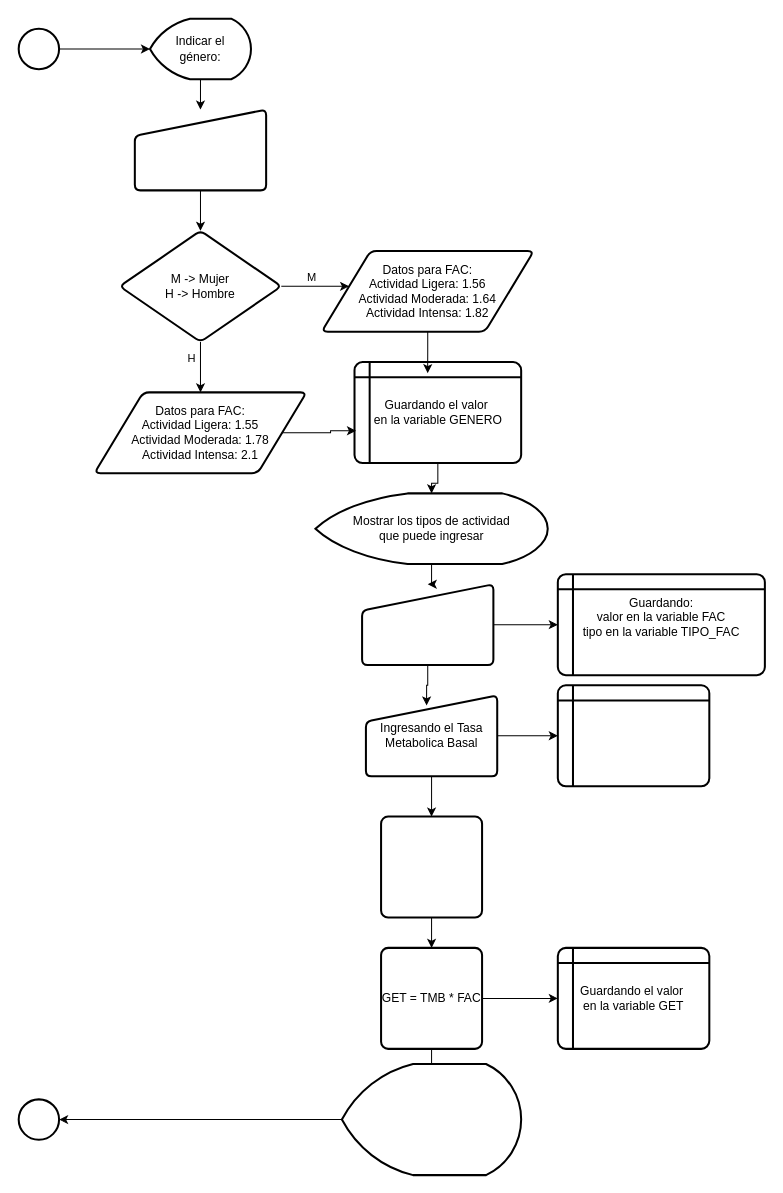
Image size: 783x1193. Some labels were removed from this diagram. Each missing label, with the box of its shape:
Calculado el Gasto Energético Total: (380, 815, 483, 918)
Guardando el valor en la variable TMB: (556, 684, 710, 787)
Ingrese el tipo Factor de Actividad: (361, 583, 494, 666)
Se muestra en pantalla: GENERO TMB TIPO_FAC GET: (340, 1063, 522, 1176)
Seleccione su género: (133, 108, 267, 191)
